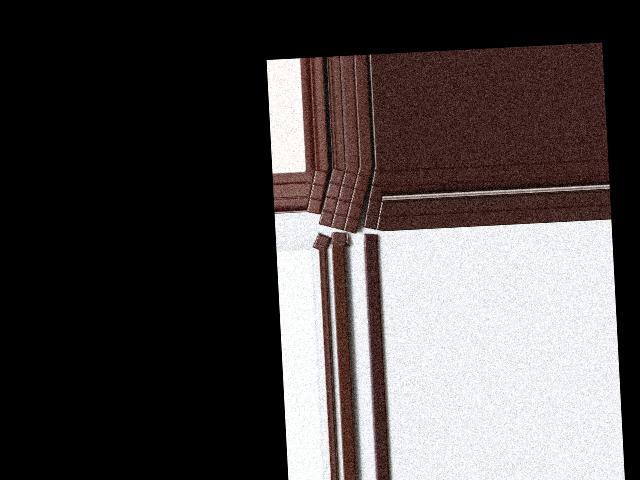chocolate: (314, 165, 373, 234)
